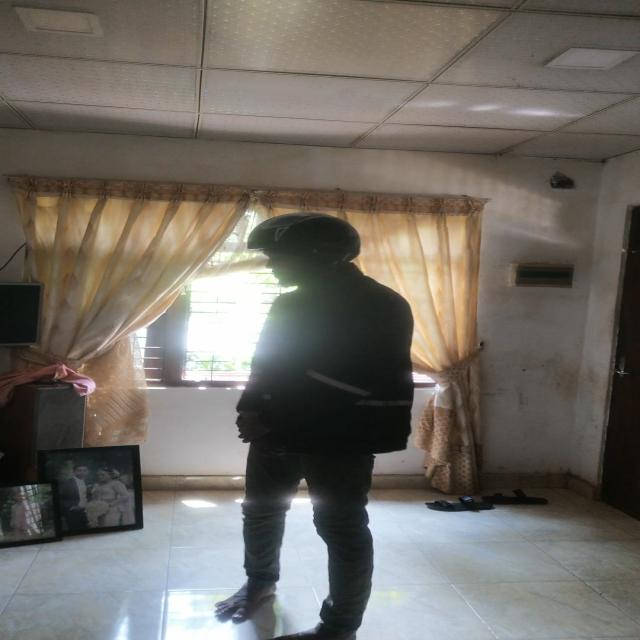Helmet_Wearer: (238, 209, 366, 294)
Jacket_Wearer: (219, 277, 421, 458)
Person: (221, 214, 425, 640)
